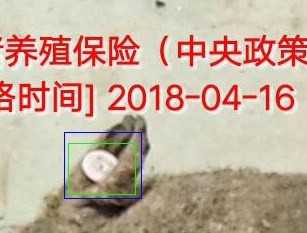text: (68, 143, 135, 194)
